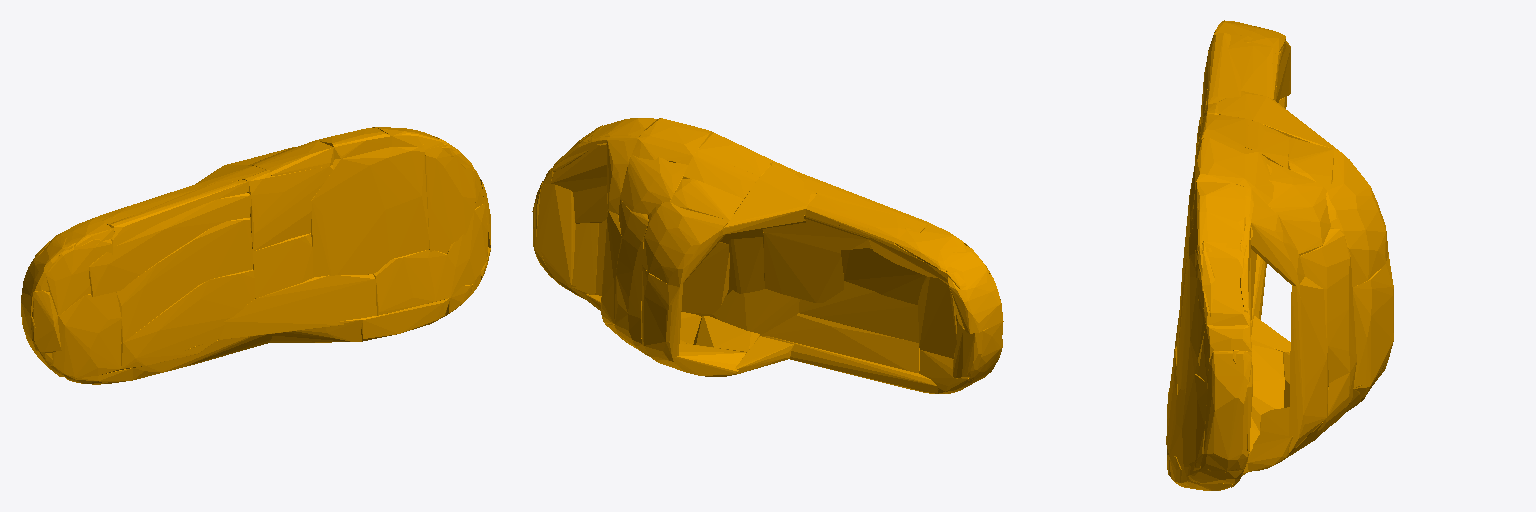
The robot description file, URDF, robot "shoe-white":
<?xml version="1.0" ?>
<robot name="shoe-white">
  <link name="baseLink">
    <contact>
      <lateral_friction value="1.0"/>
      <inertia_scaling value="3.0"/>
    </contact>
    <inertial>
      <origin rpy="0 0 0" xyz="0.000 0.000 0.000"/>
       <mass value=".1"/>
       <inertia ixx="1" ixy="0.0" ixz="0.0" iyy="1" iyz="0.0" izz="1"/>
    </inertial>
    <visual>
      <origin rpy="0 0 0" xyz="0 0 0"/>
      <geometry>
        <mesh filename="shoe/shoe-white_viva_sandal_right.obj" scale="1.0 1.0 1.0"/>
      </geometry>
    </visual>
    <collision>
      <origin rpy="0 0 0" xyz="0 0 0"/>
      <geometry>
        <mesh filename="../collision/shoe/shoe-white_viva_sandal_right.obj" scale="1.0 1.0 1.0"/>
      </geometry>
    </collision>
  </link>
</robot>
        

--- Facts derived from the render (not from the file) ---
The picture shows the robot from 3 angles, left to right: view 1: azimuth 30°, elevation 25°; view 2: azimuth 150°, elevation 25°; view 3: azimuth 270°, elevation 25°; orthographic projection.
Model shoe-white with 1 links and 0 joints (none), rooted at baseLink, posed all joints at 0.
Visible links, largest first — view 1: baseLink; view 2: baseLink; view 3: baseLink.
Boxes of the visible links, left/top/right/bottom form: baseLink: left=21, top=127, right=490, bottom=384; baseLink: left=532, top=118, right=1003, bottom=393; baseLink: left=1166, top=20, right=1393, bottom=490.
Size in the robot's own frame: 0.2365 by 0.0712 by 0.0983 metres.
Meshes: 1 distinct files referenced, 1 mesh visuals loaded (1 OBJ).